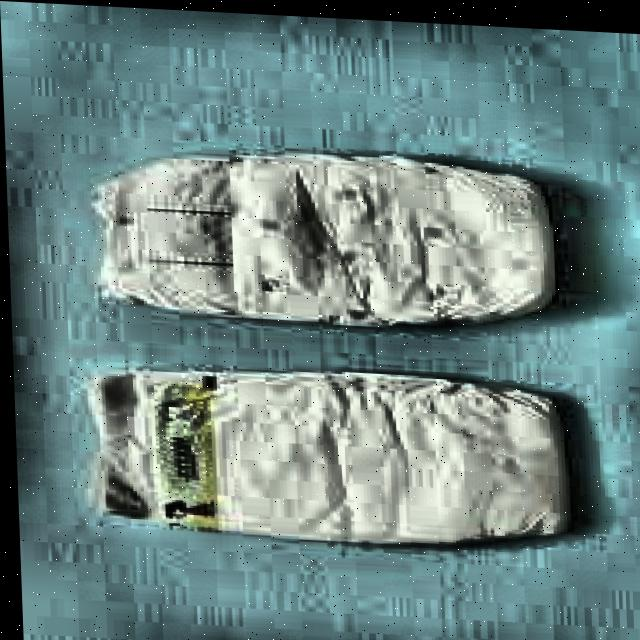trash: (82, 361, 579, 557), (86, 141, 563, 335)
